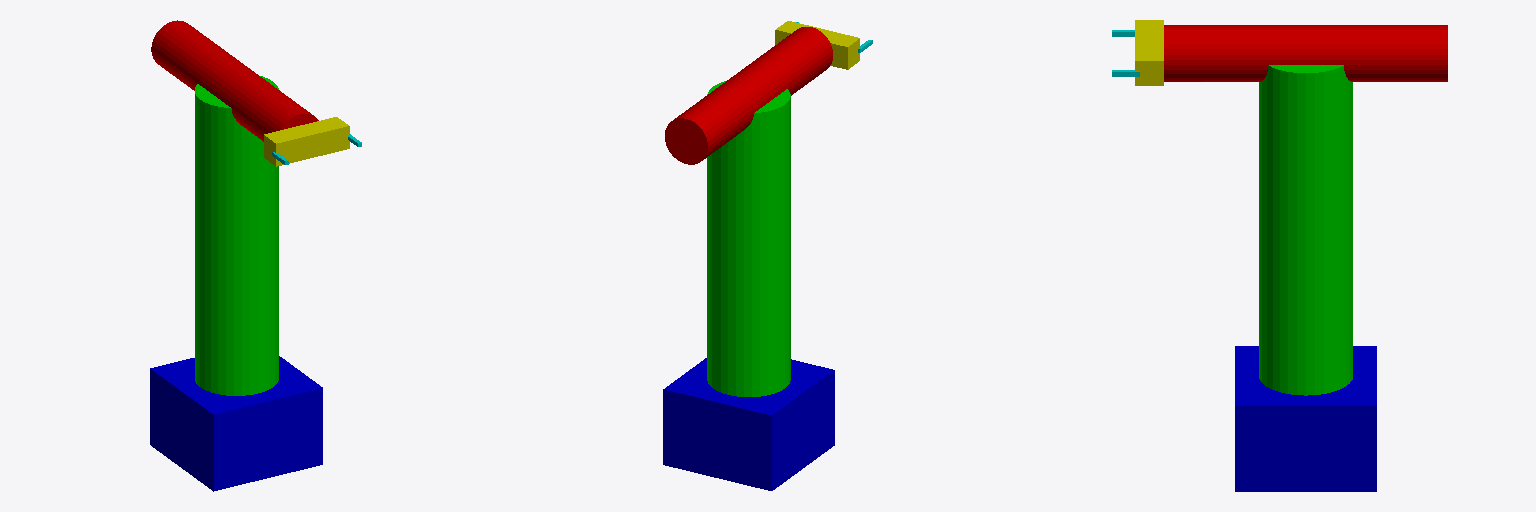
The robot description file, URDF, robot "test_advanced":
<robot name="test_advanced">
  <gazebo>
    <plugin filename="libgazebo_ros_control.so" name="gazebo_ros_control">
      <robotNamespace>/gripper</robotNamespace>
      <robotSimType>gazebo_ros_control/DefaultRobotHWSim</robotSimType>
      <legacyModeNS>true</legacyModeNS>
    </plugin>
  </gazebo>

  <material name="blue">
    <color rgba="0 0 .8 1"/>
  </material>
  <material name="red">
    <color rgba="0.8 0 0 1"/>
  </material>
  <material name="green">
    <color rgba="0 0.8 0 1"/>
  </material>
  <material name="yellow">
    <color rgba="0.8 0.8 0 1"/>
  </material>
  <material name="cyan">
    <color rgba="0 0.8 0.8 1"/>
  </material>
 

  
 <link name="root_link"/>

 <joint name="root_to_base" type="fixed">
    <parent link="root_link"/>
    <child link="base_link"/>
 </joint>
 
 <link name="base_link">
    <visual>
      <geometry>
        <box size="0.3 .3 .2"/>
      </geometry>
      <material name="blue"/>
    </visual>
    <collision>
      <geometry>
        <box size="0.3 .3 .2"/>
      </geometry>
    </collision>
    <inertial>
      <mass value="10"/>
      <inertia ixx="1.0" ixy="0.0" ixz="0.0" iyy="1.0" iyz="0.0" izz="1.0"/>
    </inertial>
  </link>

  <joint name="base_joint" type="continuous">
    <parent link="base_link"/>
    <child link="link_1"/>
    <axis xyz="0 0 1"/>
    <origin xyz="0 0 0.45"/>
  </joint>

  <link name="link_1">
    <visual>
      <geometry>
        <cylinder length="0.8" radius=".1"/>
      </geometry>
      <material name="green"/>
    </visual>
    <collision>
      <geometry>
        <cylinder length="0.8" radius=".1"/>
      </geometry>
    </collision>
    <inertial>
      <mass value="10"/>
      <inertia ixx="1.0" ixy="0.0" ixz="0.0" iyy="1.0" iyz="0.0" izz="1.0"/>
    </inertial>
  </link>


  <joint name="elbow_joint" type="revolute">
    <parent link="link_1"/>
    <child link="link_2"/>
    <origin xyz="0 0 0.4" rpy="1.571 0 0"/>
    <axis xyz="1 0 0"/> 
    
    <calibration rising="0.0" falling="0.1"/>
    <dynamics damping="0.10" friction="0.1"/>
    <limit effort="1000.0" lower="-0.6" upper="0.6" velocity="0.5"/>
    <safety_controller k_velocity="10" k_position="15" soft_lower_limit="-2.0" soft_upper_limit="0.5"/>
 
  </joint>

  <transmission name="trans_1">
    <type>transmission_interface/SimpleTransmission</type>
    <joint name="elbow_joint">
      <hardwareInterface>hardware_interface/PositionJointInterface</hardwareInterface>
    </joint>
    <actuator name="elbow_motor">
      <hardwareInterface>hardware_interface/PositionJointInterface</hardwareInterface>
      <mechanicalReduction>12</mechanicalReduction>
    </actuator>
   </transmission>

  <link name="link_2">
    <visual>
      <geometry>
        <cylinder length="0.6" radius=".06"/>
      </geometry>
      <material name="red"/>
    </visual>
    <collision>
      <geometry>
        <cylinder length="0.6" radius=".06"/>
      </geometry>
    </collision>
    <inertial>
      <mass value="10"/>
      <inertia ixx="1.0" ixy="0.0" ixz="0.0" iyy="1.0" iyz="0.0" izz="1.0"/>
    </inertial>
  </link>

  <joint name="wrist_joint" type="continuous">
    <parent link="link_2"/>
    <child link="palm_link"/>
    <origin xyz="0 0 0.33"/>
    <axis xyz="0 0 1"/>
  </joint>

  <link name="palm_link">
    <visual>
      <geometry>
        <box size="0.2 .06 .06"/>
      </geometry>
      <material name="yellow"/>
    </visual>
    <collision>
      <geometry>
        <box size="0.2 .06 .06"/>
      </geometry>
    </collision>
    <inertial>
      <mass value="10"/>
      <inertia ixx="1.0" ixy="0.0" ixz="0.0" iyy="1.0" iyz="0.0" izz="1.0"/>
    </inertial>
  </link>


 <sensor name="my_camera_sensor" update_rate="20">
   <parent link="palm_link"/>
   <origin xyz="0 0 0" rpy="0 0 0"/>
   <camera>
     <image width="640" height="480" hfov="1.5708" format="RGB8" near="0.01" far="50.0"/>
   </camera>
 </sensor>


  <joint name="finger_1_joint" type="prismatic">
    <parent link="palm_link"/>
    <child link="finger_link_1"/>
    <limit effort="1000.0" lower="-0.02" upper="0.08" velocity="0.5"/>
    <origin rpy="0 1.571 0" xyz="-0.10 0 0.05"/>
    <axis xyz="0 0 1"/>
  </joint>

  <link name="finger_link_1">
    <visual>
      <geometry>
        <box size="0.06 .01 .01"/>
      </geometry>
      <material name="cyan"/>
    </visual>
    <collision>
      <geometry>
        <box size="0.06 .1 .1"/>
      </geometry>
    </collision>
    <inertial>
      <mass value="10"/>
      <inertia ixx="1.0" ixy="0.0" ixz="0.0" iyy="1.0" iyz="0.0" izz="1.0"/>
    </inertial>
  </link>

  <joint name="finger_2_joint" type="prismatic">
    <parent link="palm_link"/>
    <child link="finger_link_2"/>
    <limit effort="1000.0" lower="-0.08" upper="0.02" velocity="0.5"/>
    <origin rpy="0 1.571 0" xyz="0.10 0 0.05"/>
    <axis xyz="0 0 1"/>
  </joint>

  <link name="finger_link_2">
    <visual>
      <geometry>
        <box size="0.06 .01 .01"/>
      </geometry>
      <material name="cyan"/>
    </visual>
    <collision>
      <geometry>
        <box size="0.06 .1 .1"/>
      </geometry>
    </collision>
    <inertial>
      <mass value="10"/>
      <inertia ixx="1.0" ixy="0.0" ixz="0.0" iyy="1.0" iyz="0.0" izz="1.0"/>
    </inertial>
  </link>



</robot>

--- What the picture shows (computed from the rendered views, not written in the file) ---
3 views of the same robot in one strip: view 1: azimuth 30°, elevation 25°; view 2: azimuth 150°, elevation 25°; view 3: azimuth 270°, elevation 25° (orthographic).
Model test_advanced with 7 links and 6 joints (1 revolute, 2 continuous, 2 prismatic, 1 fixed), rooted at root_link, posed every joint at zero.
Visible links, largest first — view 1: link_1, base_link, link_2, palm_link; view 2: link_1, base_link, link_2, palm_link; view 3: link_1, base_link, link_2, palm_link.
Boxes of the visible links, x1=… form: link_1: x1=195, y1=76, x2=278, y2=395; base_link: x1=150, y1=356, x2=322, y2=491; link_2: x1=151, y1=20, x2=318, y2=141; palm_link: x1=264, y1=117, x2=349, y2=166; link_1: x1=707, y1=81, x2=790, y2=396; base_link: x1=663, y1=358, x2=834, y2=490; link_2: x1=665, y1=27, x2=832, y2=164; palm_link: x1=775, y1=21, x2=859, y2=69; link_1: x1=1259, y1=65, x2=1352, y2=395; base_link: x1=1235, y1=346, x2=1376, y2=491; link_2: x1=1164, y1=25, x2=1447, y2=81; palm_link: x1=1135, y1=20, x2=1163, y2=85.
Size in the robot's own frame: 0.3 by 0.71 by 1.01 metres.
Geometry: primitives only (box / cylinder / sphere), no mesh files.
